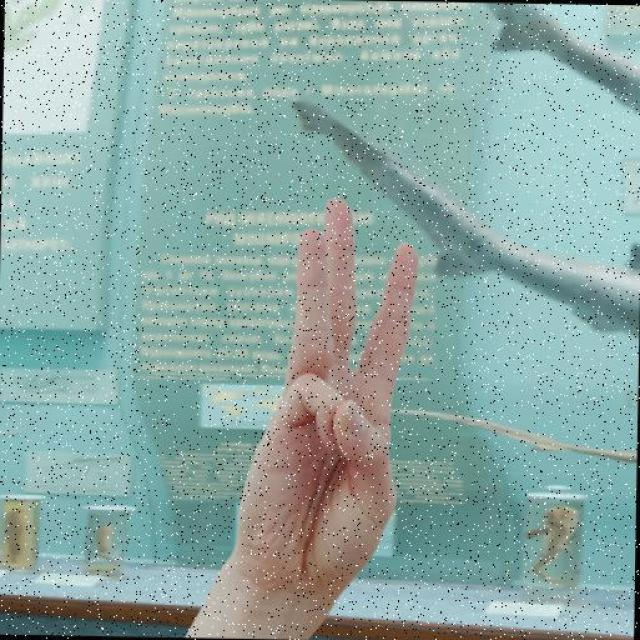W: (234, 195, 432, 640)
